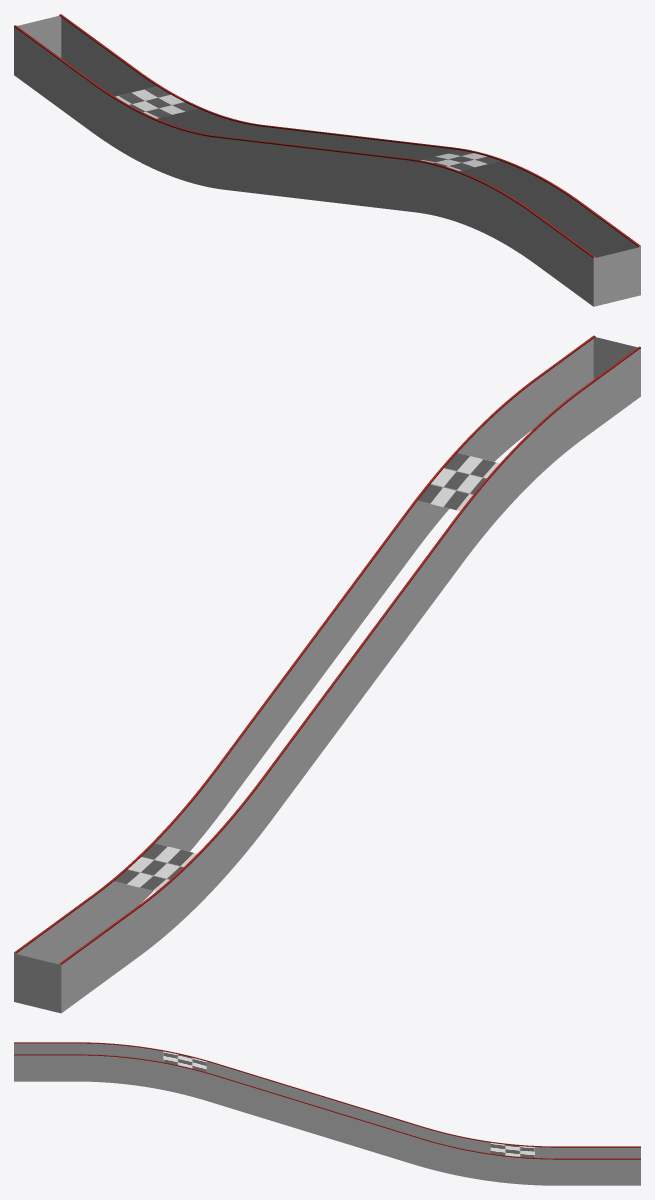
Rendered from Road_Curve_10.fbx.
3 views of the same model, one above another, from view 1: azimuth 30°, elevation 25°; view 2: azimuth 150°, elevation 25°; view 3: azimuth 270°, elevation 25° (orthographic). The views are drawn at different scales.
Visible parts, largest first — view 1: Road_Curve_10, Road_Curve_10_Border; view 2: Road_Curve_10, Road_Curve_10_Border; view 3: Road_Curve_10, Road_Curve_10_Border.
Part boxes in pixels (bbox=[...]): Road_Curve_10: bbox=[14, 15, 640, 306]; Road_Curve_10_Border: bbox=[14, 14, 640, 258]; Road_Curve_10: bbox=[14, 337, 640, 1013]; Road_Curve_10_Border: bbox=[14, 335, 640, 964]; Road_Curve_10: bbox=[14, 1043, 640, 1185]; Road_Curve_10_Border: bbox=[14, 1042, 640, 1159].
Size of the model in its own units: 876 by 4282 by 18579.
